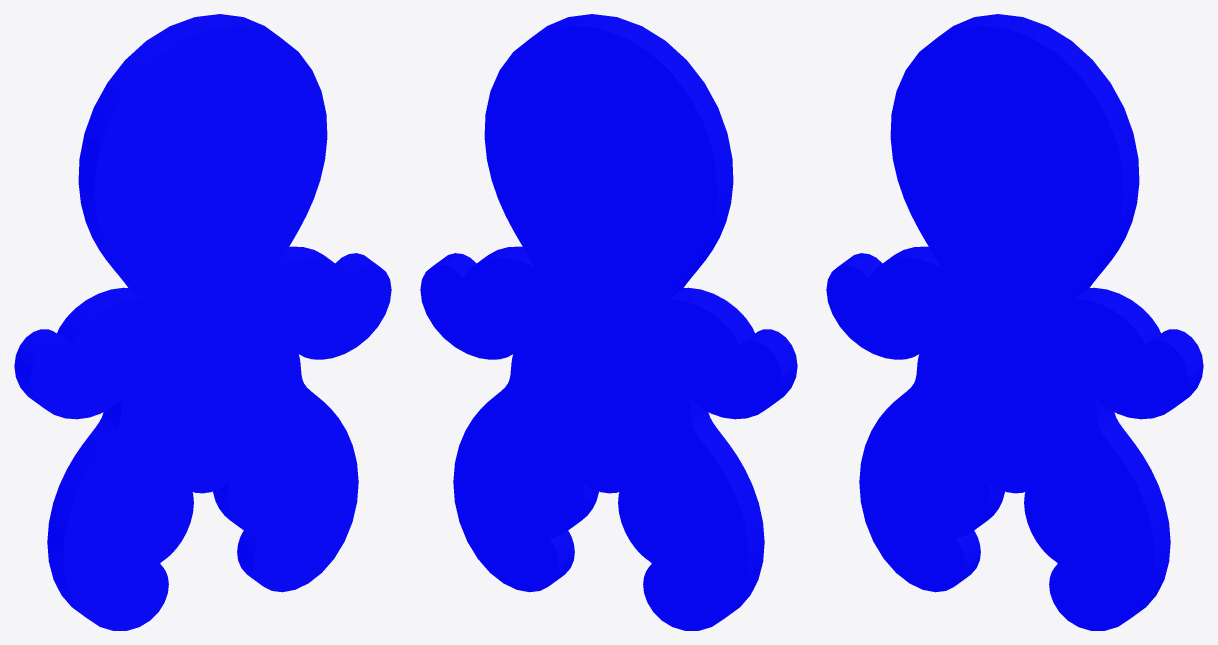
Rendered from StrongMan.glb.
The picture shows the model from 3 angles, left to right: view 1: azimuth 30°, elevation 25°; view 2: azimuth 150°, elevation 25°; view 3: azimuth 330°, elevation 25°; orthographic projection.
Bounding box in the file's own units: 0.65 × 1 × 0.05.
